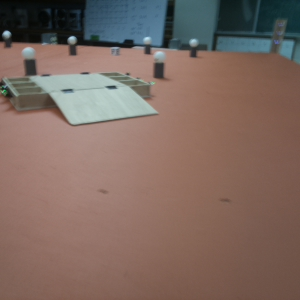obstacle: (21, 47, 38, 76), (154, 50, 166, 80), (66, 36, 79, 58), (188, 37, 200, 60), (142, 37, 154, 56), (4, 29, 14, 48)
slope: (50, 87, 158, 124)
